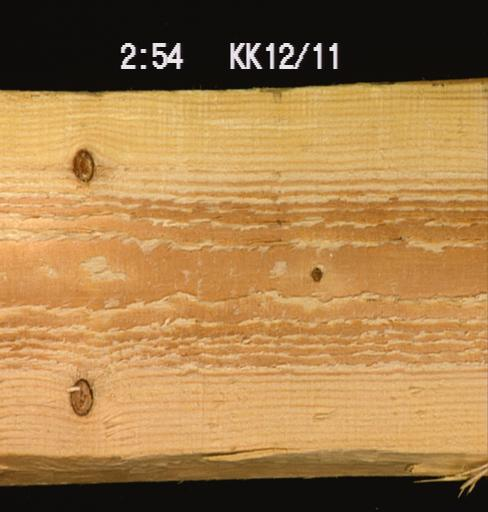dry_knot: (65, 375, 95, 418), (68, 146, 97, 183), (306, 262, 324, 285)
wave: (0, 442, 487, 483)
